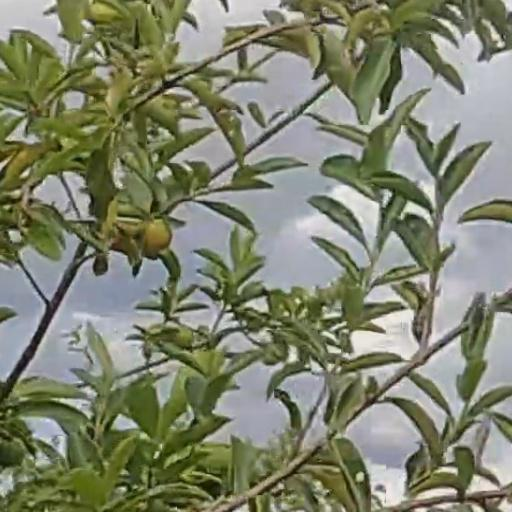acerola: (145, 220, 172, 255)
